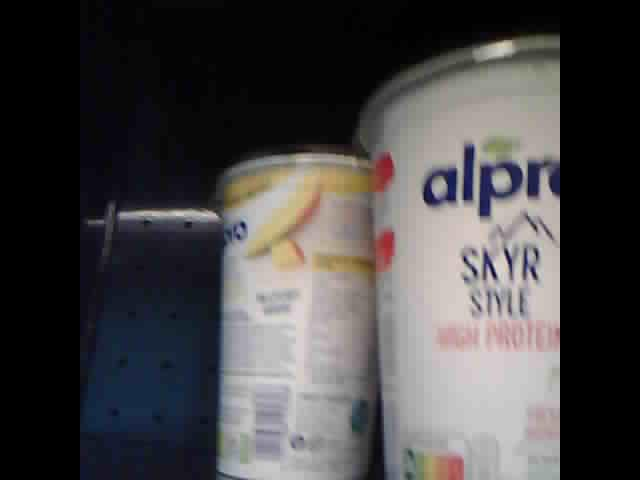alpro: (356, 34, 560, 480), (212, 139, 382, 480)
